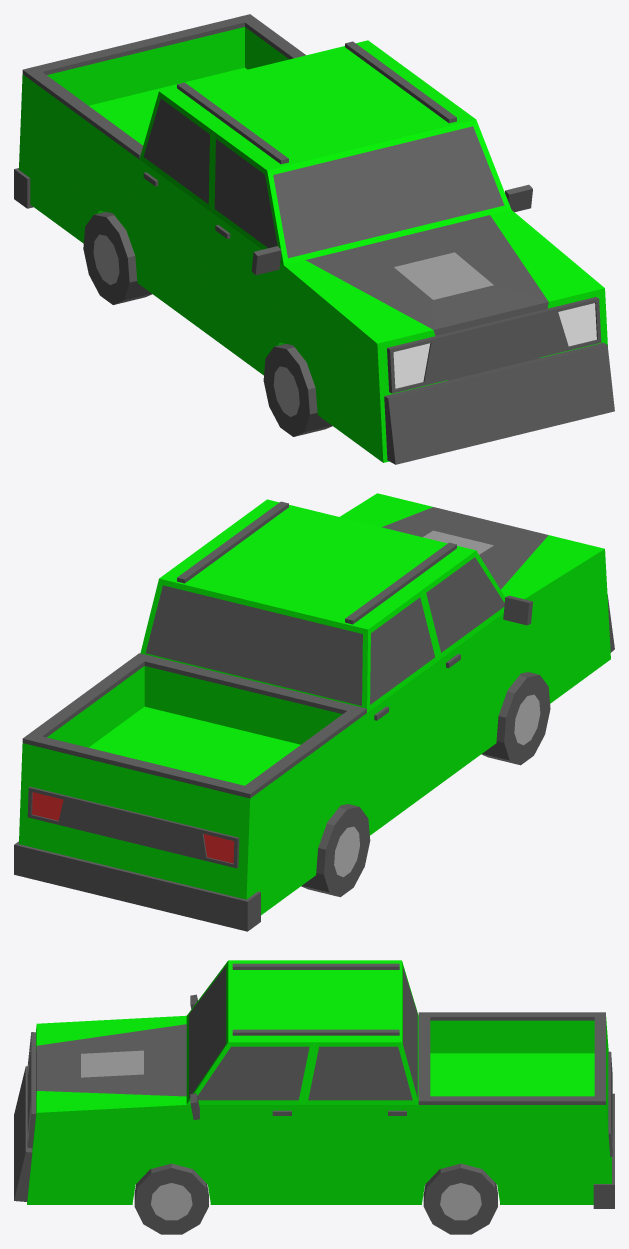
File: SM_Car_03_02.FBX
The picture shows the model from 3 angles, top to bottom: view 1: azimuth 30°, elevation 25°; view 2: azimuth 150°, elevation 25°; view 3: azimuth 270°, elevation 25°; orthographic projection. The views are drawn at different scales.
Parts seen in each view (by area): view 1: SM_Car_03_02, SM_Wheel_LFront001, SM_Wheel_RBack001; view 2: SM_Car_03_02, SM_Wheel_RBack001, SM_Wheel_LFront001; view 3: SM_Car_03_02, SM_Wheel_LBack001, SM_Wheel_LFront002.
Part boxes in pixels (bbox=[...]): SM_Car_03_02: bbox=[14, 14, 614, 464]; SM_Wheel_LFront001: bbox=[263, 344, 332, 436]; SM_Wheel_RBack001: bbox=[83, 212, 152, 304]; SM_Car_03_02: bbox=[14, 493, 614, 931]; SM_Wheel_RBack001: bbox=[301, 804, 370, 897]; SM_Wheel_LFront001: bbox=[481, 672, 550, 765]; SM_Car_03_02: bbox=[14, 960, 614, 1208]; SM_Wheel_LBack001: bbox=[423, 1163, 497, 1234]; SM_Wheel_LFront002: bbox=[134, 1163, 208, 1234].
Bounding box in the file's own units: 1.7 × 1.39 × 4.
Materials: 1 (1 with a texture image).
